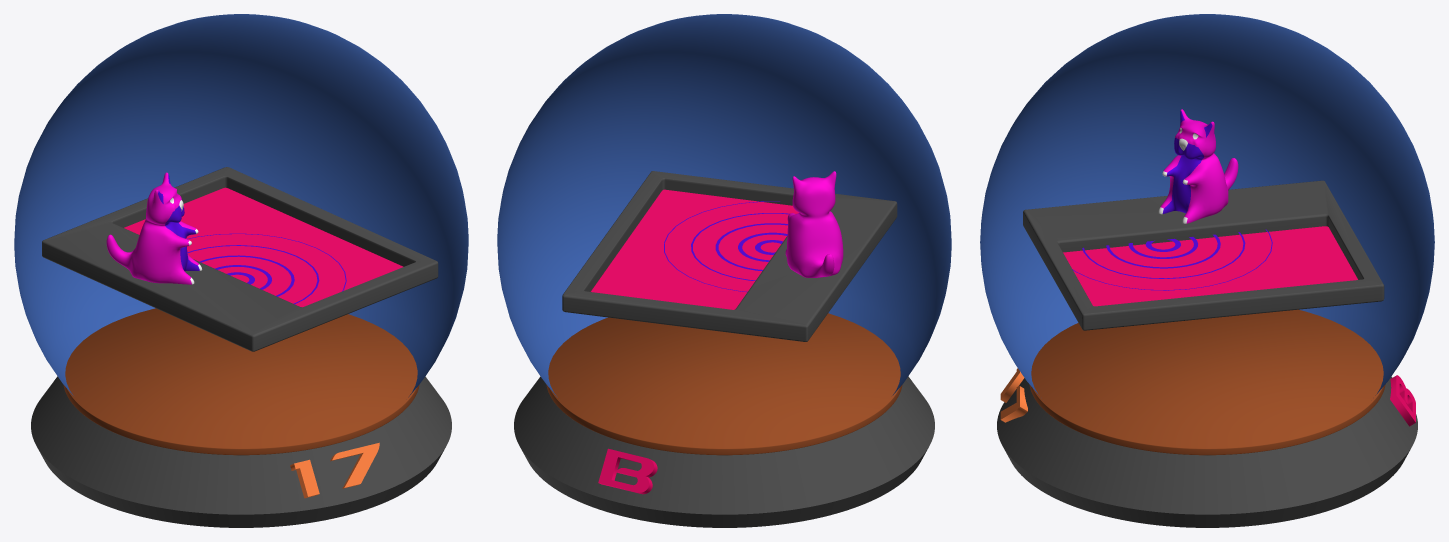
File: Curio_17b.glb
The picture shows the model from 3 angles, left to right: view 1: azimuth 30°, elevation 25°; view 2: azimuth 150°, elevation 25°; view 3: azimuth 270°, elevation 25°; orthographic projection.
Visible parts, largest first — view 1: Sphere.059, Cube.031, Sphere.058, Sphere.057, Text.023; view 2: Sphere.059, Cube.031, Sphere.058, Sphere.057, Text.024; view 3: Sphere.059, Cube.031, Sphere.058, Sphere.057, Text.023, Text.024.
Part boxes in pixels (box(x1,y1,x2,y2)): Sphere.059: box(14, 14, 468, 397); Cube.031: box(42, 167, 438, 351); Sphere.058: box(63, 308, 419, 455); Sphere.057: box(31, 376, 451, 527); Text.023: box(290, 442, 379, 498); Sphere.059: box(497, 14, 951, 397); Cube.031: box(562, 171, 897, 341); Sphere.058: box(546, 313, 902, 455); Sphere.057: box(514, 376, 934, 527); Text.024: box(598, 448, 657, 494); Sphere.059: box(980, 14, 1434, 395); Cube.031: box(1023, 109, 1384, 330); Sphere.058: box(1029, 309, 1385, 455); Sphere.057: box(997, 376, 1417, 527); Text.023: box(1000, 368, 1027, 422); Text.024: box(1390, 375, 1415, 426).
Size of the model in its own units: 4.66 by 4.62 by 4.66.
